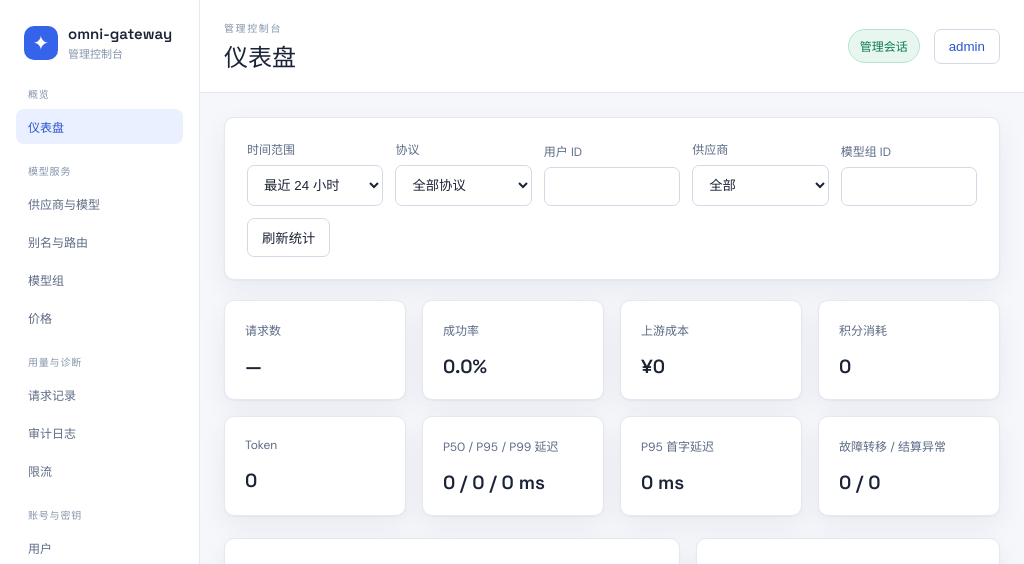
it: 管理端限流关联对象选择 › 用户作用域按用户名而非显示名称构造下拉，并不依赖用户组或预算
The image size is (1024, 564).
Click the button "限流" at [100, 470], box [16,453,183,488]
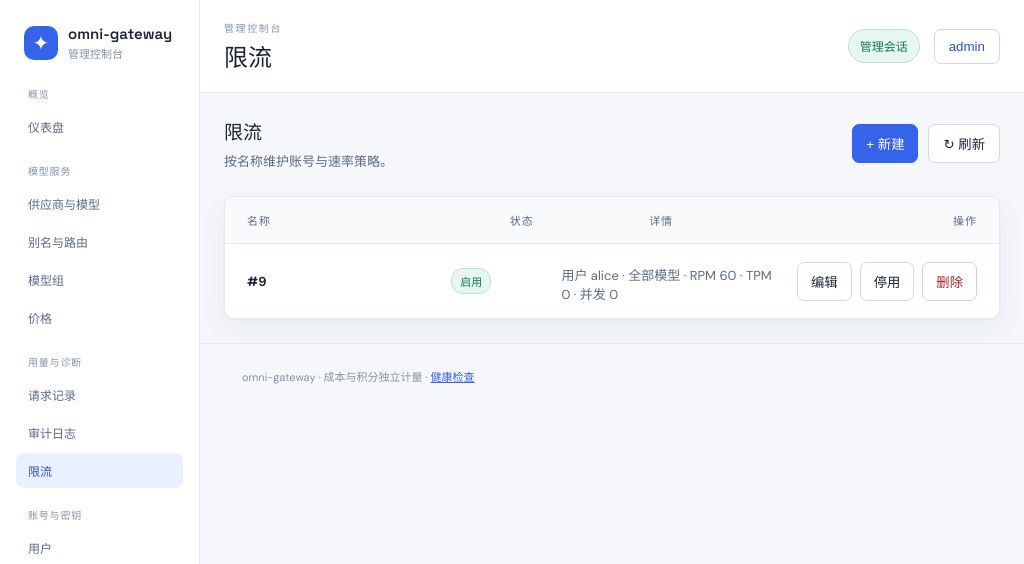
Click the button "+ 新建" at [885, 144], box [852,124,918,163]
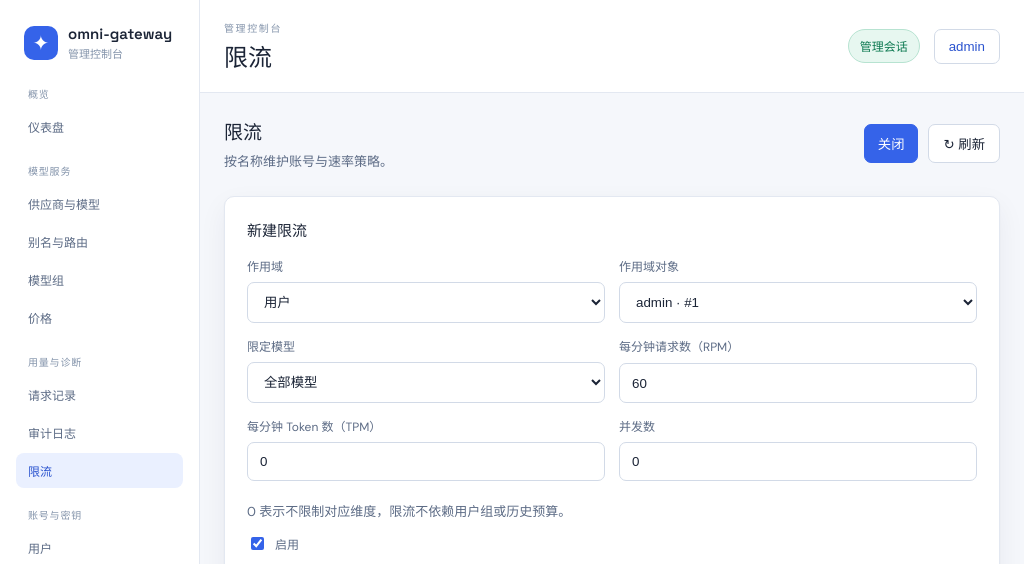
Check: the dropdown labelled "作用域对象" is shown, box [619,282,977,323]
Check: the text "限流不依赖用户组或历史预算" is shown, box [247,503,571,520]
